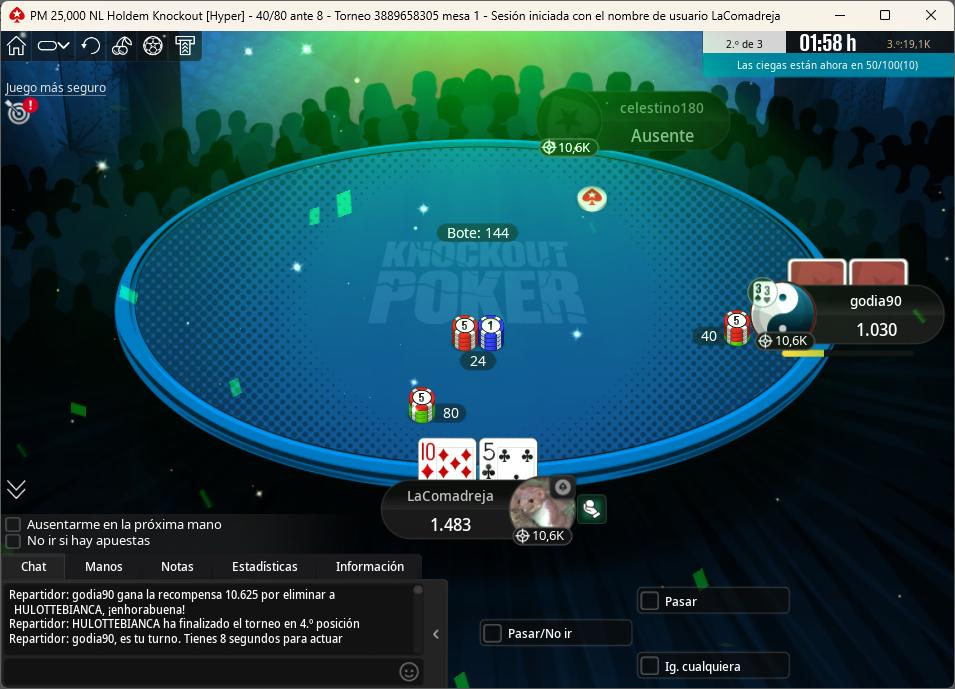Dealer: (575, 185, 609, 213)
HiddenCards: (786, 257, 911, 285)
Player: (748, 281, 944, 351)
PlayerBet: (689, 307, 755, 348)
PlayerChips: (850, 318, 903, 340)
Pot: (437, 222, 521, 244)
PreButtonCallAny: (639, 648, 796, 684)
PreButtonCheck: (637, 588, 795, 617)
PreButtonCheckFold: (479, 617, 635, 647)
PrincipalBet: (405, 385, 471, 426)
PrincipalCards: (420, 437, 543, 484)
PrincipalCards1: (416, 436, 477, 484)
PrincipalCards2: (478, 434, 542, 484)
PrincipalPlayer: (384, 477, 583, 556)
PrincipalPlayerChips: (422, 516, 477, 536)
SmallBigBlind: (247, 6, 334, 29)
TablePot: (445, 310, 520, 376)
